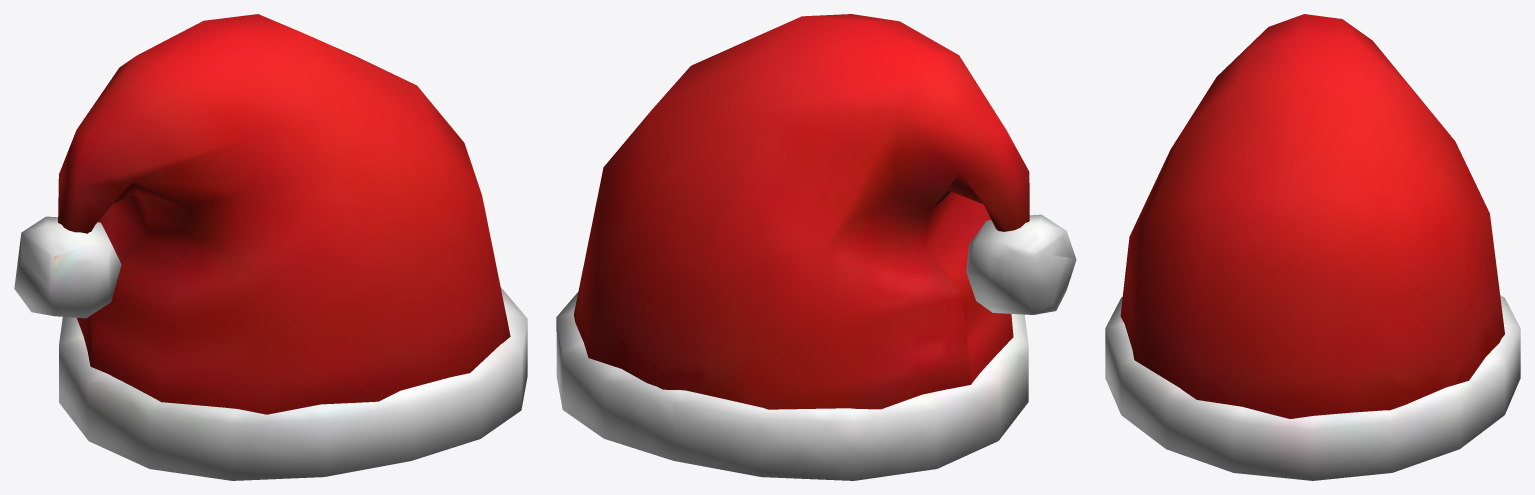
The model's file is Santa_Hat.glb.
3 renders of one model, left to right at view 1: azimuth 30°, elevation 25°; view 2: azimuth 150°, elevation 25°; view 3: azimuth 270°, elevation 25°, orthographic. The views are drawn at different scales.
Parts seen in each view (by area): view 1: Santa_Hat; view 2: Santa_Hat; view 3: Santa_Hat.
Part boxes in pixels (x1,y1,x2,y2): Santa_Hat: [14, 14, 527, 480]; Santa_Hat: [556, 14, 1076, 480]; Santa_Hat: [1105, 14, 1520, 480].
Size of the model in its own units: 0.5986 by 0.4526 by 0.5143.
1 material, 1 textured.
